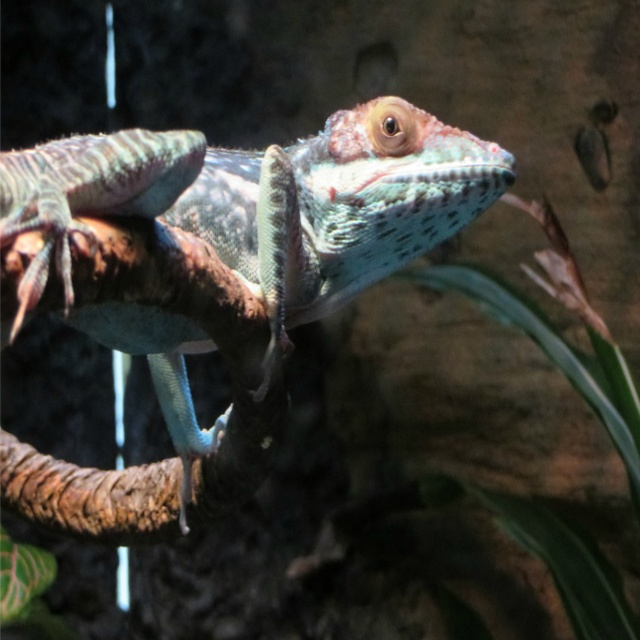Lizard: (0, 87, 552, 577)
